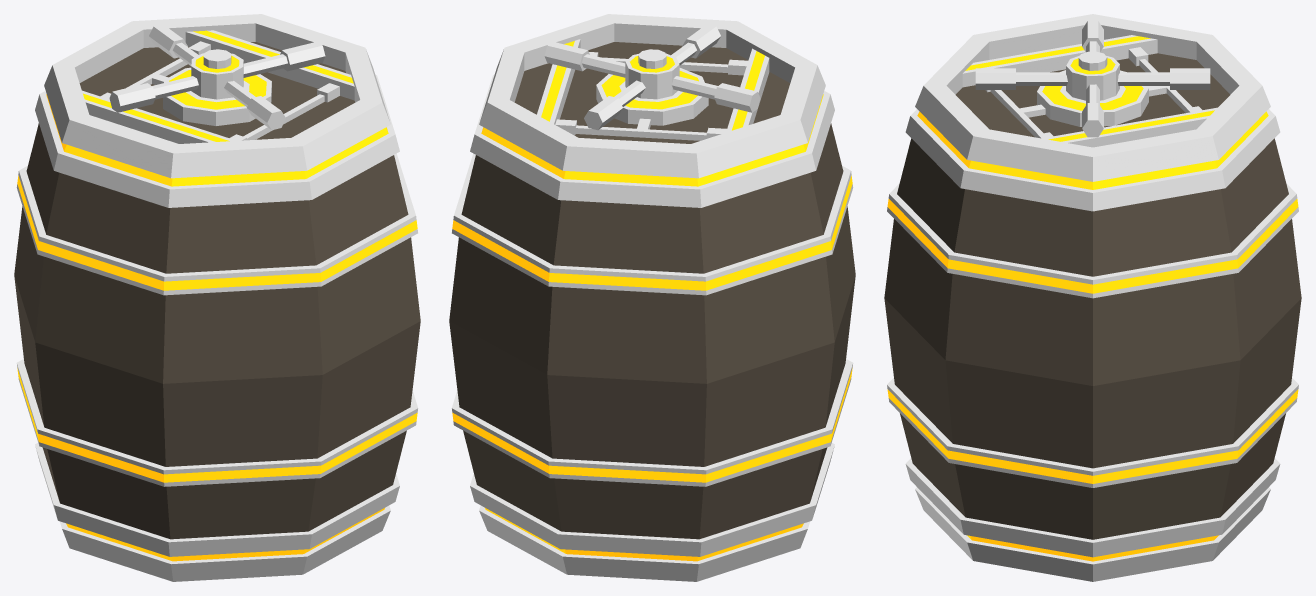
Rendered from Barrel.fbx.
3 views of the same model, side by side, from view 1: azimuth 30°, elevation 25°; view 2: azimuth 150°, elevation 25°; view 3: azimuth 270°, elevation 25° (orthographic).
Parts seen in each view (by area): view 1: Barril, Parte _de_cima; view 2: Barril, Parte _de_cima; view 3: Barril, Parte _de_cima.
Boxes of the visible parts, <box> form: Barril: <box>14,14,420,581</box>; Parte _de_cima: <box>100,24,339,140</box>; Barril: <box>449,14,855,581</box>; Parte _de_cima: <box>544,24,760,140</box>; Barril: <box>884,14,1301,581</box>; Parte _de_cima: <box>975,21,1210,138</box>.
Bounding box in the file's own units: 103 × 123 × 103.
